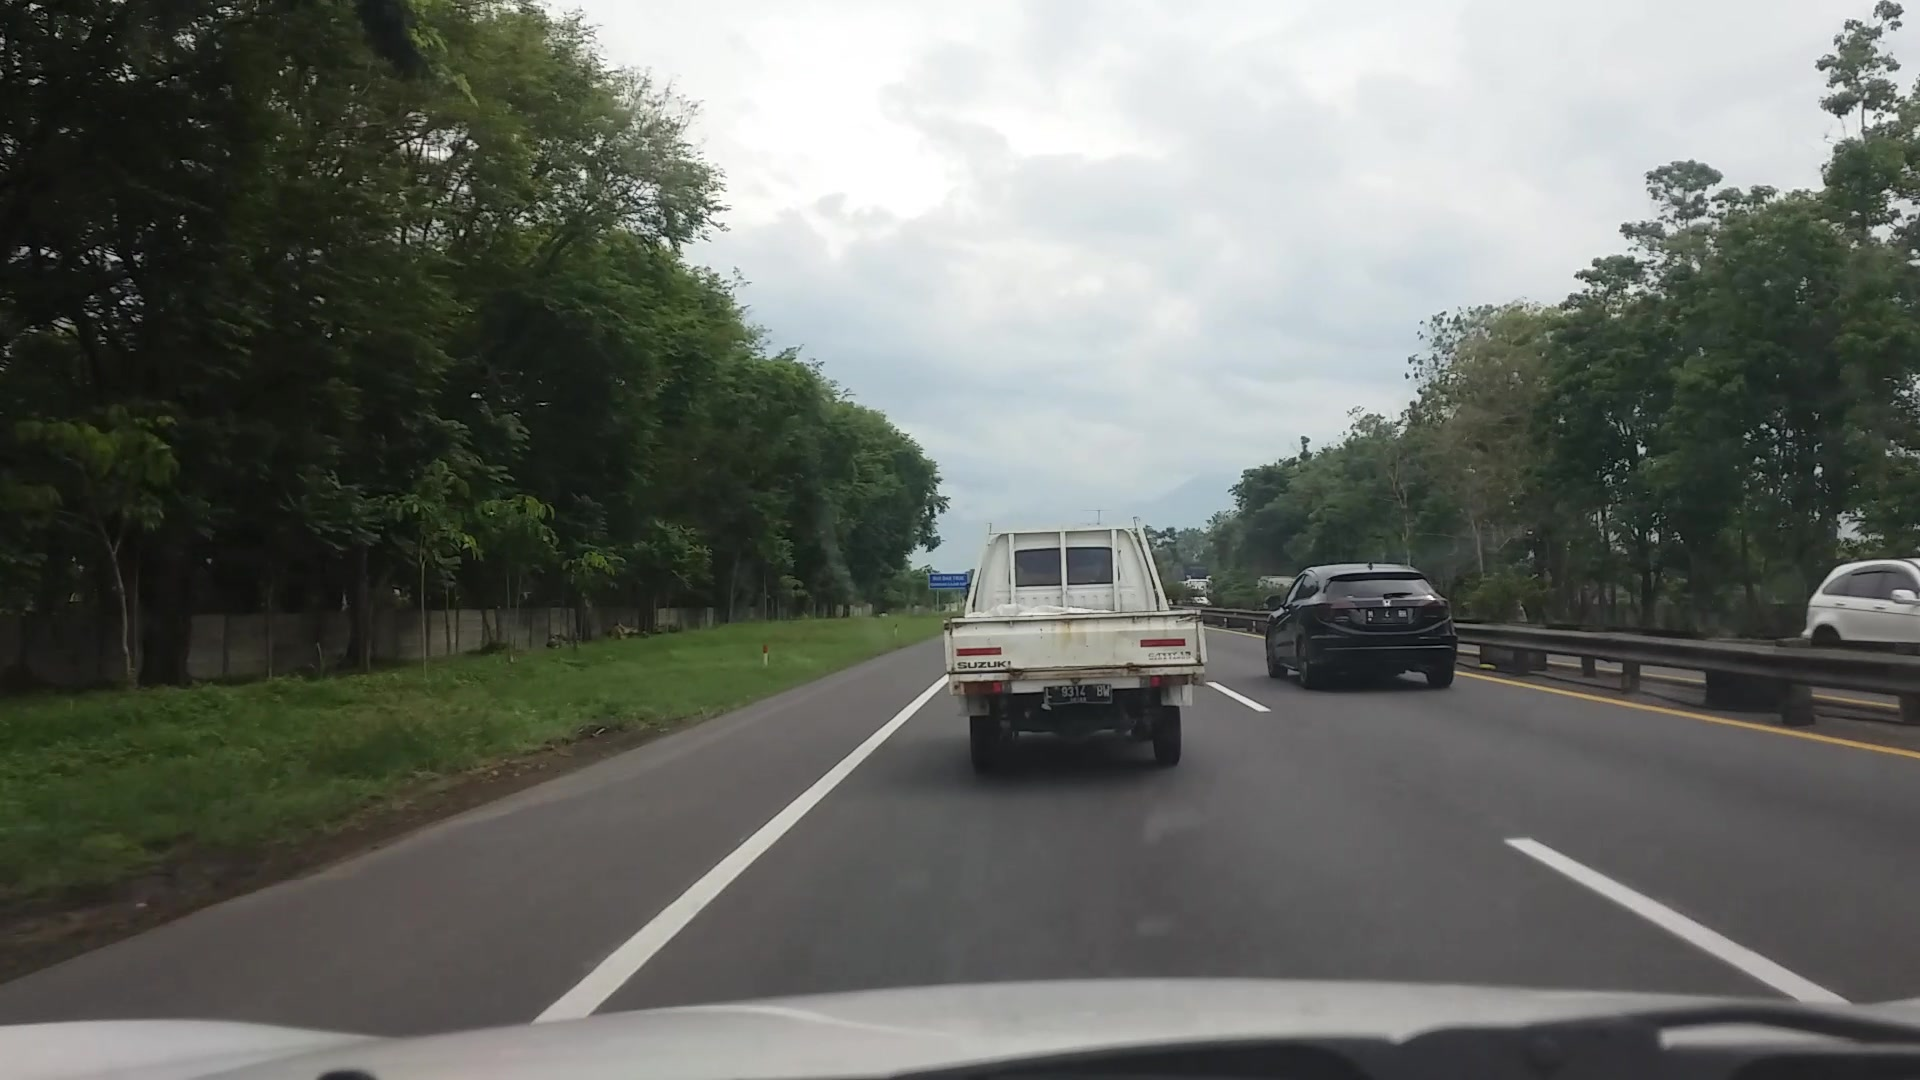plate_positive: (1042, 684, 1112, 705), (1366, 608, 1408, 624)
